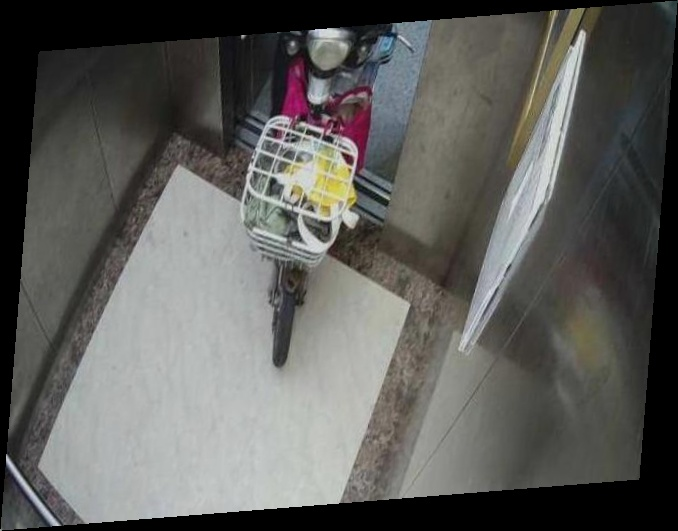electromobile: (244, 25, 425, 370)
